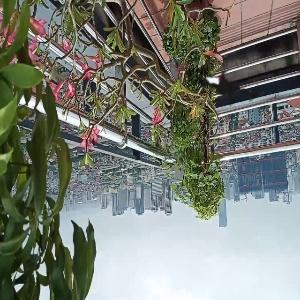drone: (185, 35, 282, 132)
